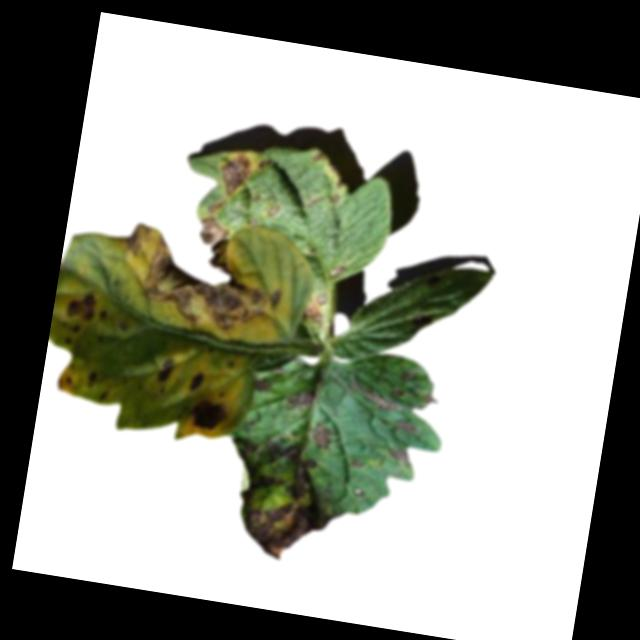Early_blight: (114, 225, 286, 340), (216, 436, 339, 571), (346, 376, 408, 418), (192, 216, 232, 277), (183, 399, 229, 438), (217, 151, 252, 201), (61, 291, 96, 330), (280, 386, 318, 416), (303, 291, 327, 327), (306, 421, 333, 451), (387, 445, 414, 471), (154, 356, 174, 385), (186, 369, 206, 397), (204, 196, 224, 218), (392, 419, 415, 436), (345, 456, 366, 473), (326, 265, 349, 279), (83, 369, 98, 388), (266, 203, 281, 219), (327, 191, 341, 208), (310, 151, 324, 167)
